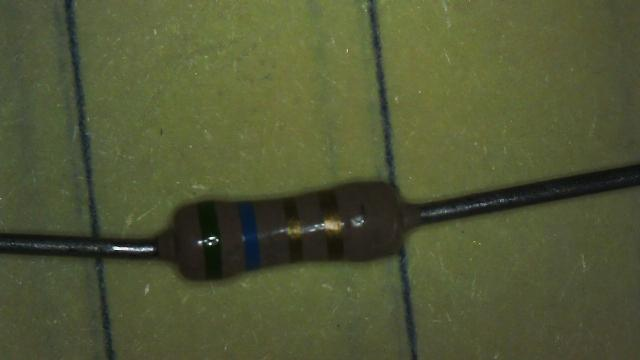blue: (240, 203, 261, 269)
gold: (320, 189, 344, 260), (284, 198, 303, 262)
green: (198, 202, 223, 279)
resistor: (151, 157, 434, 299)
